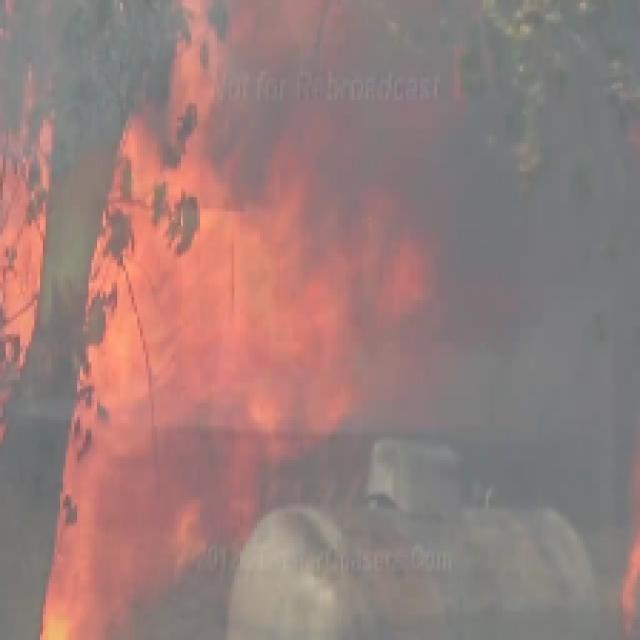Fire: (54, 141, 433, 628), (0, 74, 74, 360)
